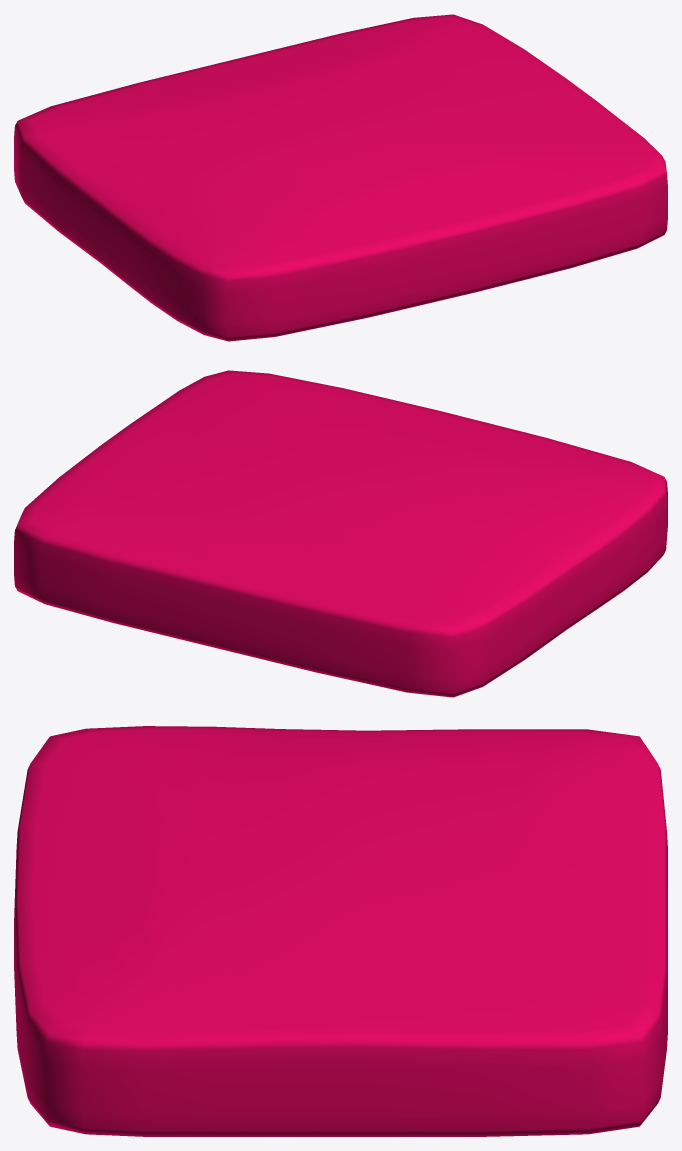
Rendered from Sofa_04_Pillow_02_Lod0.fbx.
3 views of the same model, one above another, from view 1: azimuth 30°, elevation 25°; view 2: azimuth 150°, elevation 25°; view 3: azimuth 270°, elevation 25° (orthographic). The views are drawn at different scales.
Visible parts, largest first — view 1: Sofa_04_Pillow_02_Lod0; view 2: Sofa_04_Pillow_02_Lod0; view 3: Sofa_04_Pillow_02_Lod0.
Part boxes in pixels (bbox=[...]): Sofa_04_Pillow_02_Lod0: bbox=[14, 14, 667, 341]; Sofa_04_Pillow_02_Lod0: bbox=[14, 370, 667, 697]; Sofa_04_Pillow_02_Lod0: bbox=[14, 726, 667, 1136].
Bounding box in the file's own units: 121 × 23.02 × 103.
